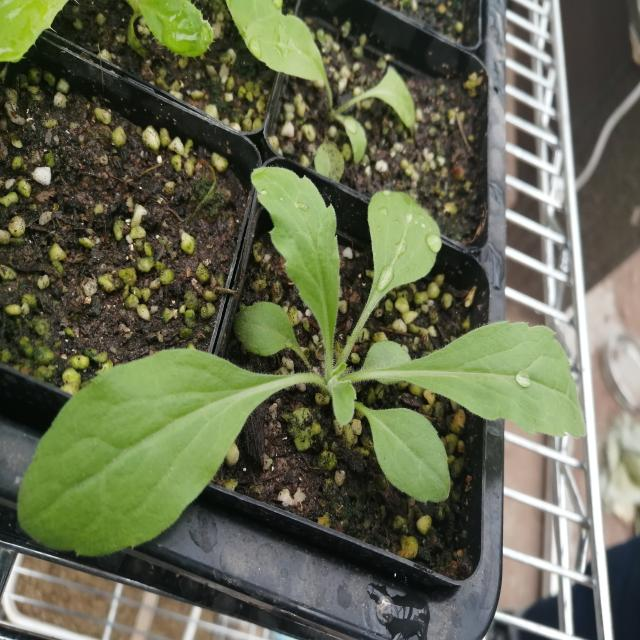horseweed: (27, 163, 578, 569)
